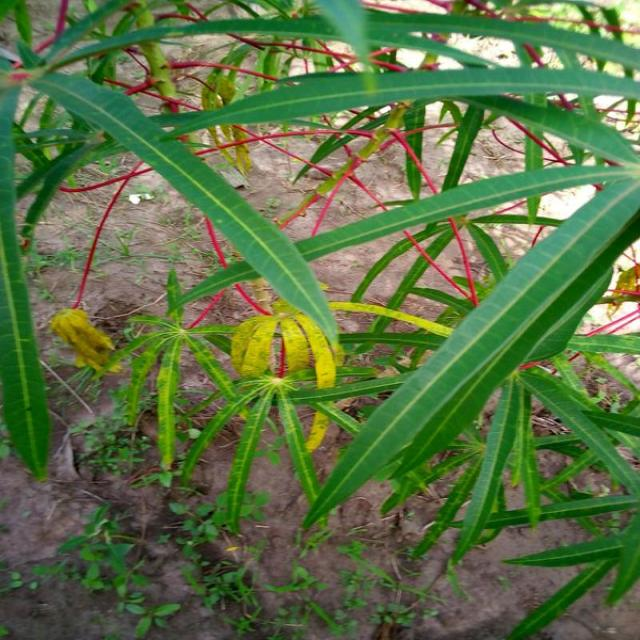cassava leaf: (298, 165, 640, 531), (22, 65, 344, 365)
